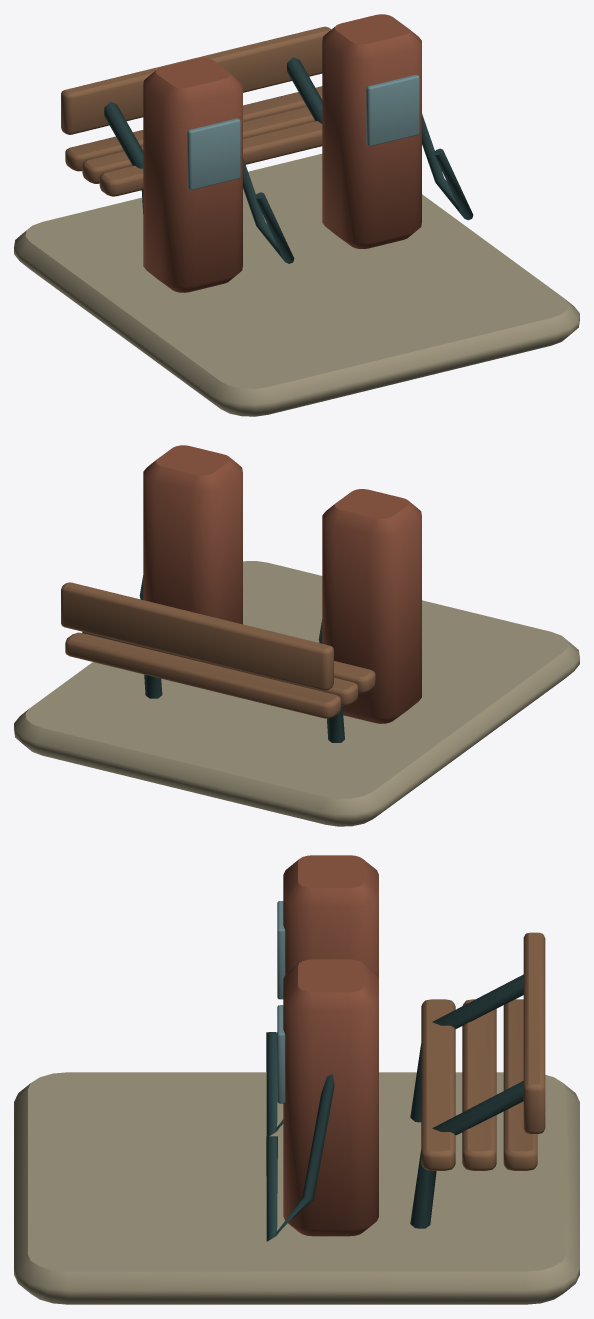
File: fuel_works_1.glb
3 renders of one model, top to bottom at view 1: azimuth 30°, elevation 25°; view 2: azimuth 150°, elevation 25°; view 3: azimuth 270°, elevation 25°, orthographic. The views are drawn at different scales.
Visible parts, largest first — view 1: FuelWorks1; view 2: FuelWorks1; view 3: FuelWorks1.
Part boxes in pixels (x1,y1,x2,y2): FuelWorks1: (14,14,579,416); FuelWorks1: (14,445,579,826); FuelWorks1: (14,855,579,1304).
Bounding box in the file's own units: 2.19 × 1.36 × 2.48.
